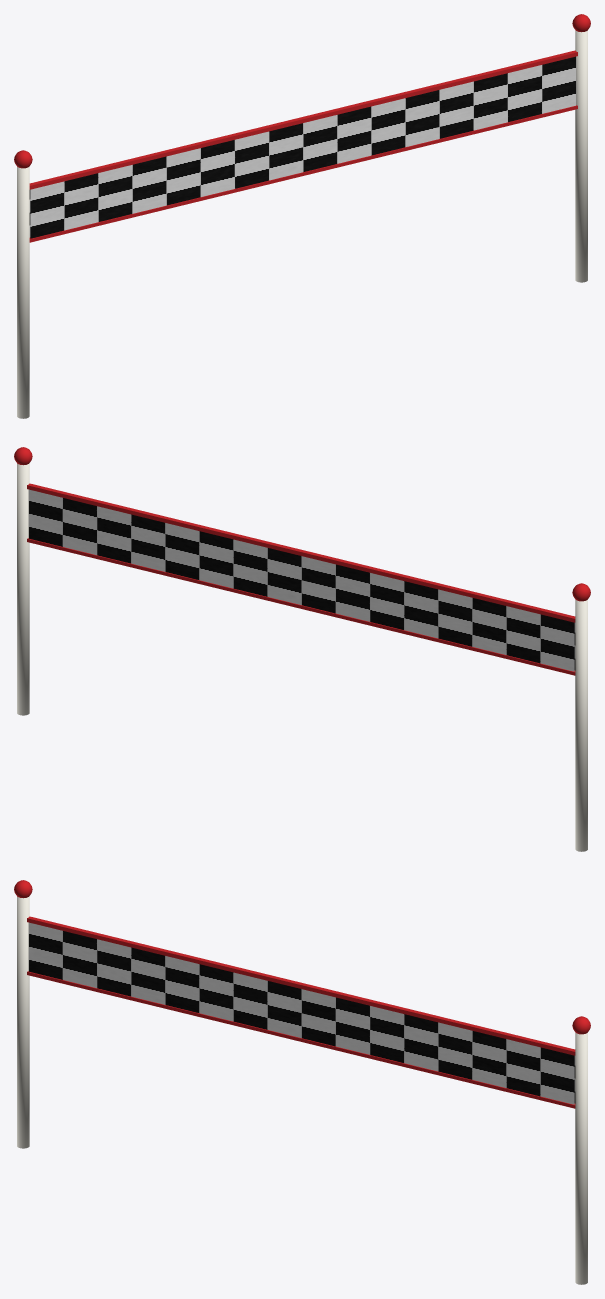
Rendered from BanyeDamye.fbx.
3 views of the same model, one above another, from view 1: azimuth 30°, elevation 25°; view 2: azimuth 150°, elevation 25°; view 3: azimuth 330°, elevation 25° (orthographic).
Visible parts, largest first — view 1: BanyeDamye; view 2: BanyeDamye; view 3: BanyeDamye.
Boxes of the visible parts, box(x1,y1,x2,y2) form: BanyeDamye: box(14, 14, 590, 418); BanyeDamye: box(14, 447, 590, 851); BanyeDamye: box(14, 880, 590, 1284).
Bounding box in the file's own units: 18.52 × 8.16 × 0.52.
